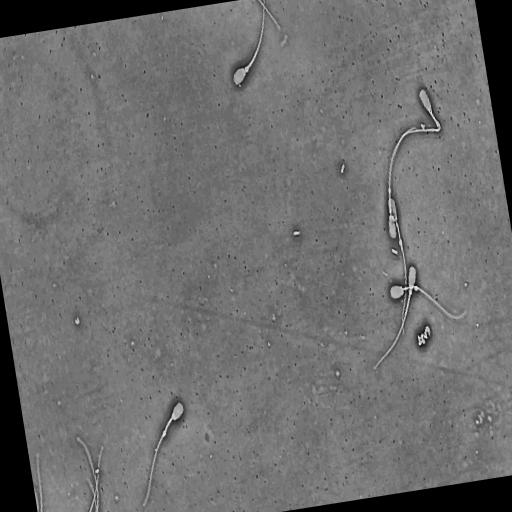dirt-particles: (414, 321, 432, 349)
distal-droplet: (387, 186, 391, 194), (399, 238, 402, 246), (414, 285, 418, 290), (162, 430, 165, 436)
folded-tail: (405, 109, 441, 132)
normal: (372, 266, 416, 373), (142, 401, 183, 507), (387, 124, 416, 240), (389, 284, 468, 321), (387, 197, 407, 335), (233, 0, 265, 86), (404, 83, 442, 135)
proximal-droplet: (244, 65, 248, 72), (409, 289, 412, 294)
